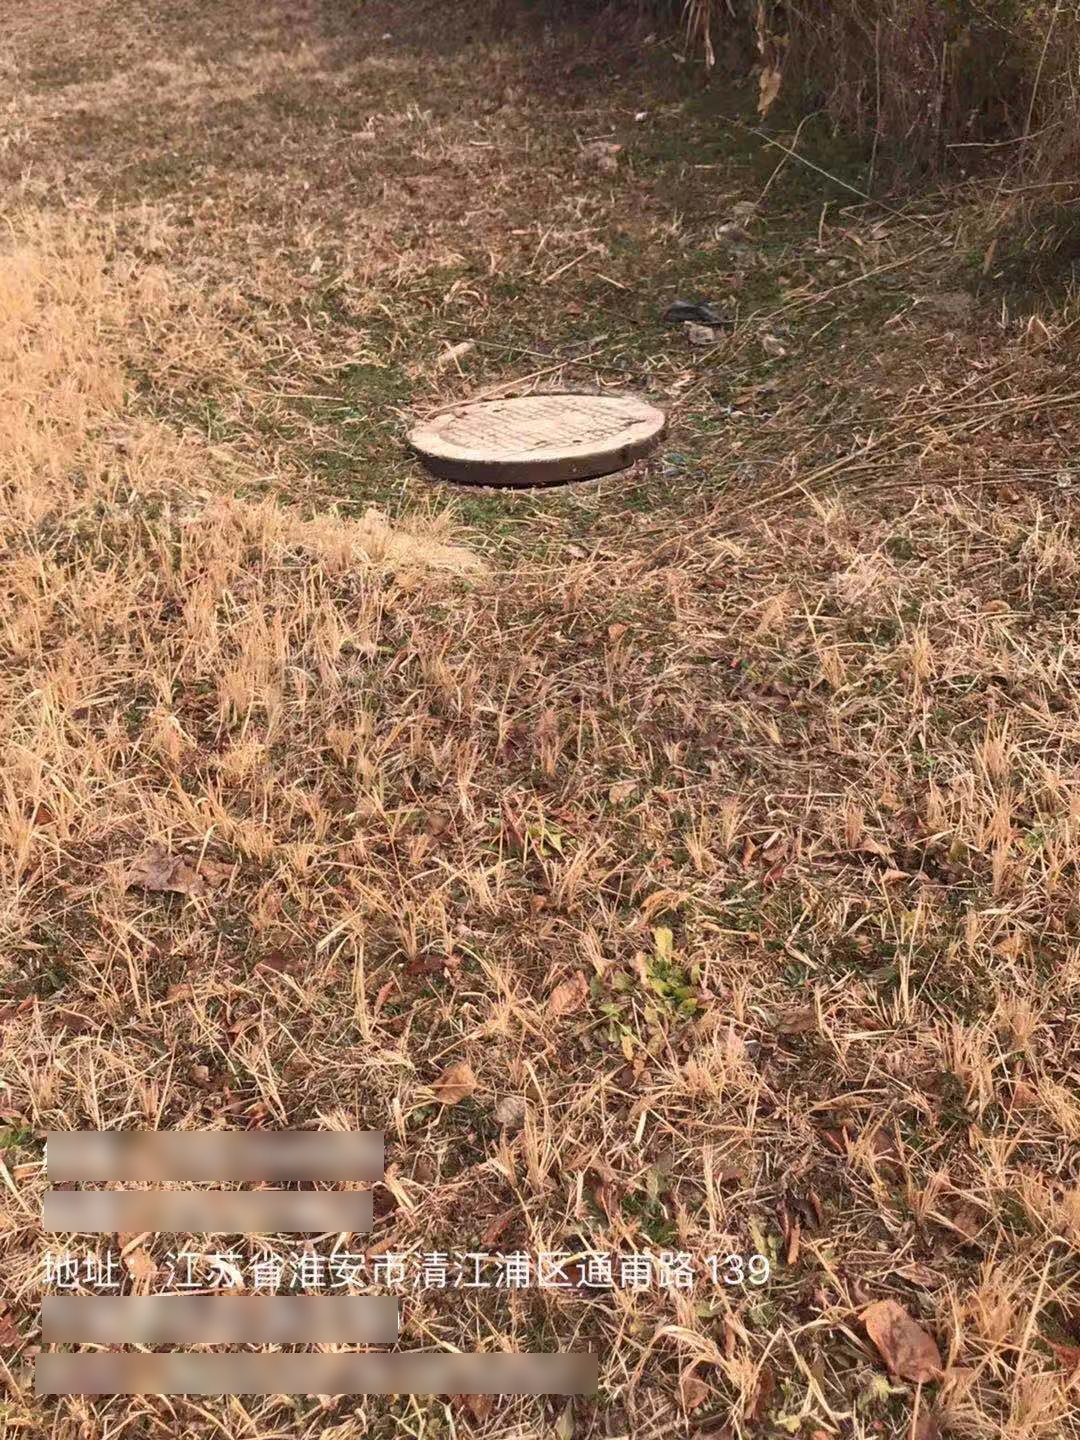uncovered: (410, 391, 670, 495)
